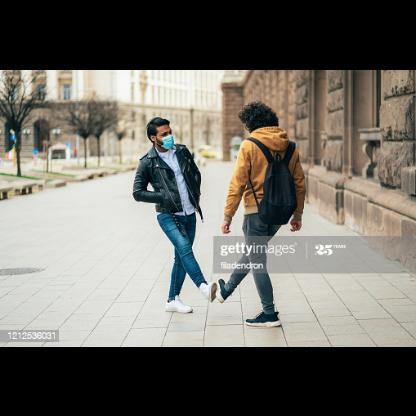Surgical Mask: (151, 116, 175, 152)
